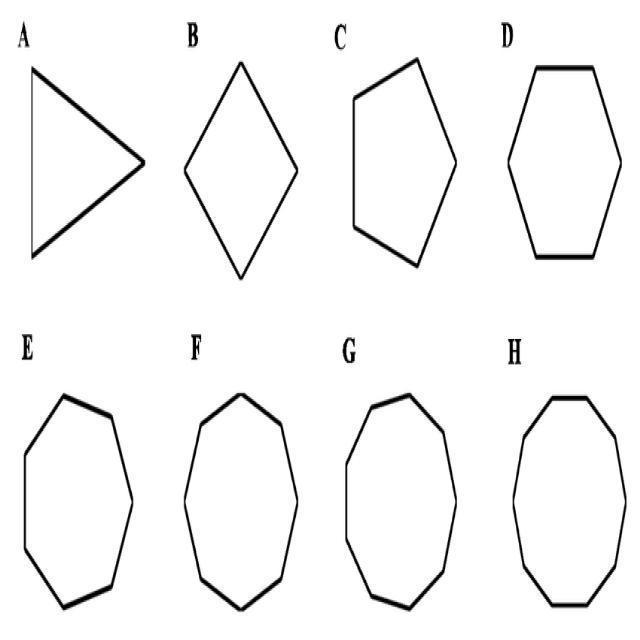triangle: (13, 46, 170, 270)
